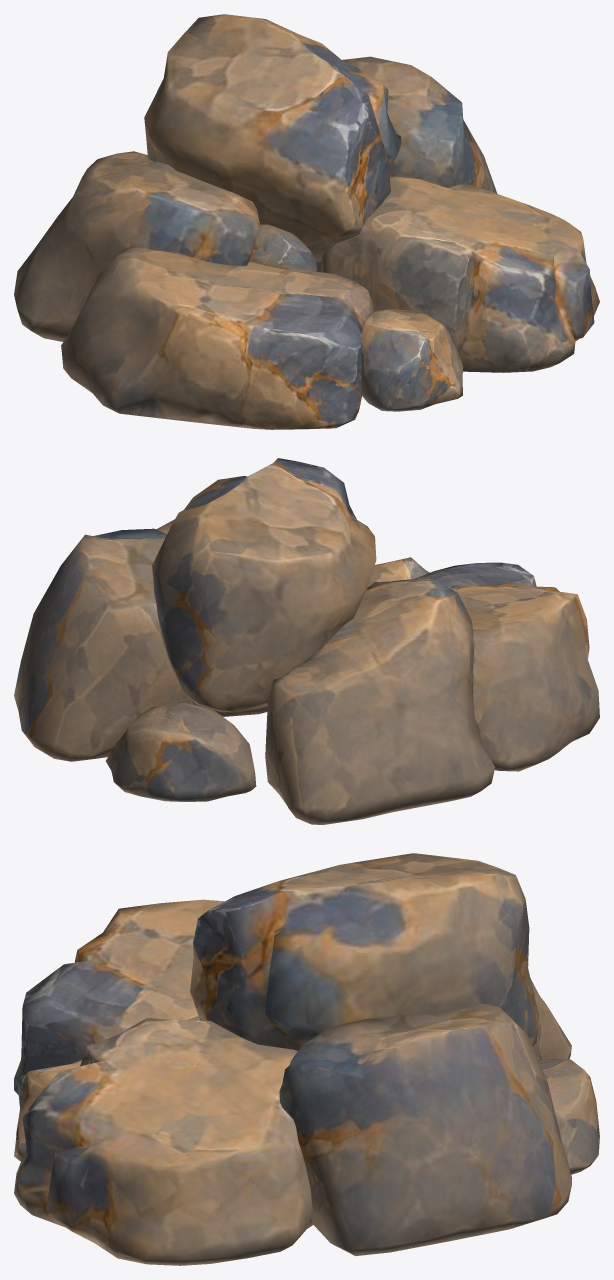
The model's file is Minerais.glb.
3 views of the same model, one above another, from view 1: azimuth 30°, elevation 25°; view 2: azimuth 150°, elevation 25°; view 3: azimuth 270°, elevation 25° (orthographic). The views are drawn at different scales.
Size of the model in its own units: 1 by 0.4971 by 0.9395.
1 material, 1 textured.
